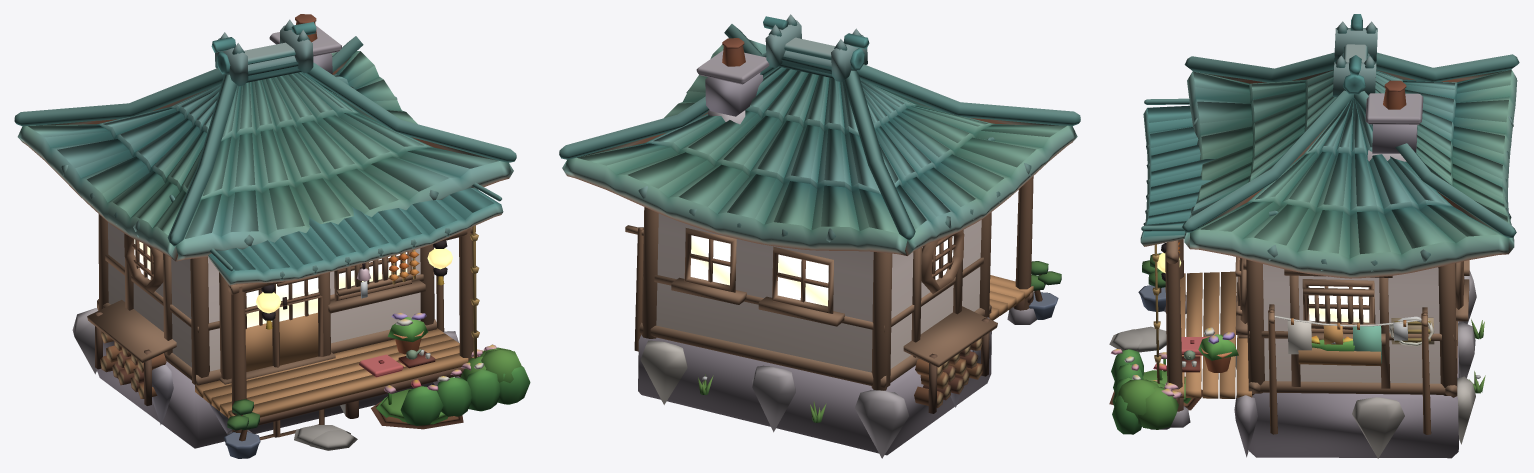
The model's file is home-2-v4.glb.
The picture shows the model from 3 angles, left to right: view 1: azimuth 30°, elevation 25°; view 2: azimuth 150°, elevation 25°; view 3: azimuth 270°, elevation 25°; orthographic projection. The views are drawn at different scales.
Parts seen in each view (by area): view 1: home, window_glow; view 2: home, window_glow; view 3: home, window_glow.
Boxes of the visible parts, <box> form: home: <box>14,14,530,458</box>; window_glow: <box>134,239,452,327</box>; home: <box>559,14,1080,458</box>; window_glow: <box>690,235,953,306</box>; home: <box>1109,14,1519,458</box>; window_glow: <box>1157,252,1369,322</box>.
Bounding box in the file's own units: 3.48 × 3.41 × 3.48.
